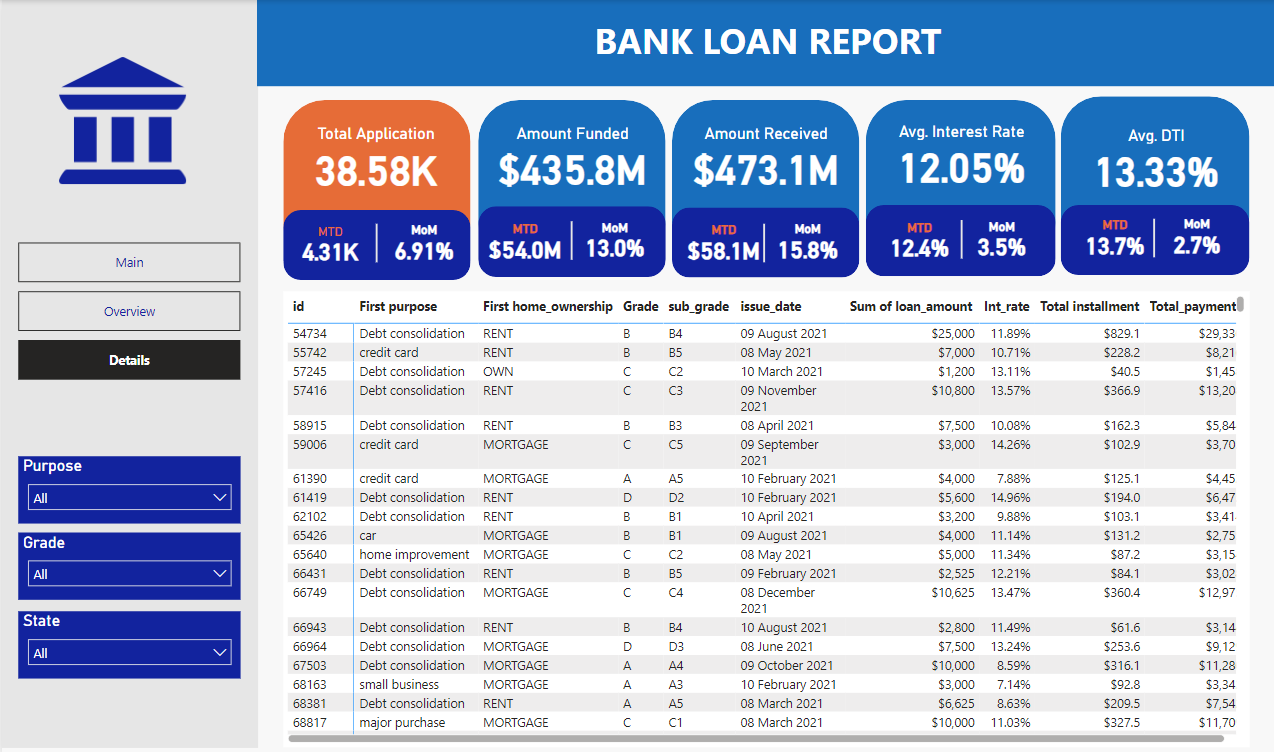

The dashboard page shown, as its layout file describes it:
{"tool":"powerbi","page":{"name":"Details","canvas":[1350,800],"ordinal":2},"visuals":[{"type":"shape","box":[0,0,270.9,791.4],"z":0},{"type":"shape","box":[270.3,0,1079.4,91.3],"z":1000},{"type":"shape","box":[913.4,105.5,201,171.1],"z":1000,"group":"g2"},{"type":"textbox","box":[601.5,12.5,417.2,63.1],"z":2000},{"type":"shape","box":[913.4,216.7,201,75.6],"z":2000,"group":"g2"},{"type":"image","box":[55.6,55.6,144,144],"z":3000},{"type":"shape","box":[1120.2,101.2,199.6,169.7],"z":3000,"group":"g1"},{"type":"shape","box":[708.5,105.5,198.2,172.5],"z":4000,"group":"g3"},{"type":"pageNavigator","box":[16.8,359.3,235.3,42.8],"z":4000},{"type":"shape","box":[1120.2,216.7,199.6,74.1],"z":5000,"group":"g1"},{"type":"pageNavigator","box":[16.8,308,235.3,42.8],"z":5000},{"type":"shape","box":[708.5,219.6,198.2,74.1],"z":6000,"group":"g3"},{"type":"pageNavigator","box":[16.8,256.7,235.3,42.8],"z":6000},{"type":"slicer","title":"Purpose","fields":{"Values":["financial_loan.purpose"]},"box":[17.2,482.6,235.4,71.4],"z":7000},{"type":"slicer","title":"Grade","fields":{"Values":["financial_loan.grade"]},"box":[17.2,563.3,235.4,71.4],"z":8000},{"type":"card","title":"MTD","fields":{"Values":["financial_loan.MTD AMOUNT RECEIVED"]},"box":[718.5,221,88.4,74.1],"z":9000,"group":"g3"},{"type":"slicer","title":"State","fields":{"Values":["financial_loan.address_state"]},"box":[17.2,646.6,235.4,71.4],"z":9000},{"type":"group","id":"g1","title":"Group 3","box":[1120.2,101.2,199.6,189.6],"z":10000},{"type":"shape","box":[503.2,105.5,198.2,172.5],"z":10000,"group":"g4"},{"type":"group","id":"g2","title":"Group 4","box":[913.4,105.5,201,186.8],"z":11000},{"type":"card","title":" Amount Received","fields":{"Values":["Sum(financial_loan.total_payment)"]},"box":[722.8,115.5,169.7,104.1],"z":11000,"group":"g3"},{"type":"group","id":"g3","title":"Group 5","box":[708.5,105.5,198.2,189.6],"z":12000},{"type":"shape","box":[503.2,218.2,198.4,74.9],"z":12000,"group":"g4"},{"type":"group","id":"g4","title":"Group 6","box":[503.2,105.5,198.4,188.1],"z":13000},{"type":"shape","box":[796.3,235.9,20.4,40.8],"z":13000,"group":"g3"},{"type":"group","id":"g5","title":"Group 7","box":[297.9,105.5,198.2,190.1],"z":14000},{"type":"shape","box":[297.9,105.5,198.2,175.4],"z":14000,"group":"g5"},{"type":"card","title":"MoM","fields":{"Values":["financial_loan.MoM Received amount"]},"box":[806.9,219.6,91.3,74.1],"z":15000,"group":"g3"},{"type":"pivotTable","fields":{"Rows":["financial_loan.id"],"Values":["Min(financial_loan.purpose)","Min(financial_loan.home_ownership)","Min(financial_loan.grade)","Min(financial_loan.sub_grade)","Min(financial_loan.issue_date)","Sum(financial_loan.loan_amount)","Sum(financial_loan.int_rate)","Sum(financial_loan.installment)","Sum(financial_loan.total_payment)"]},"box":[297.5,308.1,1022.1,482.6],"z":15000},{"type":"shape","box":[297.9,221.5,198.2,74.1],"z":16000,"group":"g5"},{"type":"card","title":"MTD","fields":{"Values":["financial_loan.MTD INTEREST RATE"]},"box":[925.3,218.1,89.8,74.1],"z":17000,"group":"g2"},{"type":"card","title":"Avg. Interest Rate","fields":{"Values":["Avg(financial_loan.int_rate)"]},"box":[939.5,114.1,149.7,104.1],"z":18000,"group":"g2"},{"type":"shape","box":[1004.6,233,20.4,40.8],"z":19000,"group":"g2"},{"type":"card","title":"MTD","fields":{"Values":["financial_loan.MTD LOAN APPLICATION"]},"box":[301.1,221.5,94.1,74.1],"z":20000,"group":"g5"},{"type":"card","title":"MoM","fields":{"Values":["financial_loan.MoM Interest rate"]},"box":[1014.3,216.7,87,74.1],"z":21000,"group":"g2"},{"type":"card","title":"Total Application","fields":{"Values":["CountNonNull(financial_loan.id)"]},"box":[319.3,115.5,154,105.5],"z":22000,"group":"g5"},{"type":"card","title":"MTD","fields":{"Values":["financial_loan.MTD funded amount"]},"box":[503.6,218.9,99.2,74.8],"z":23000,"group":"g4"},{"type":"card","title":"Amount Funded ","fields":{"Values":["Sum(financial_loan.loan_amount)"]},"box":[514.6,115.5,175.4,104.1],"z":24000,"group":"g4"},{"type":"shape","box":[386.8,236.4,20.4,40.8],"z":26000,"group":"g5"},{"type":"shape","box":[592,233.8,20.4,40.8],"z":27000,"group":"g4"},{"type":"card","title":"MoM","fields":{"Values":["financial_loan.MoM funded amount"]},"box":[605.9,218.1,82.7,74.1],"z":28000,"group":"g4"},{"type":"card","title":"MoM","fields":{"Values":["financial_loan.MoM Application"]},"box":[406.6,220,81.3,74.1],"z":30000,"group":"g5"},{"type":"card","title":"MTD","fields":{"Values":["financial_loan.MTD AVERAGE DTI"]},"box":[1134.1,215.3,85.6,74.1],"z":32000,"group":"g1"},{"type":"card","title":"Avg. DTI","fields":{"Values":["Avg(financial_loan.dti)"]},"box":[1133,116.9,175.4,104.1],"z":34000,"group":"g1"},{"type":"shape","box":[1208.2,230.2,20.4,40.8],"z":36000,"group":"g1"},{"type":"card","title":"MoM","fields":{"Values":["financial_loan.MoM DTI"]},"box":[1219.7,213.8,89.8,74.1],"z":38000,"group":"g1"}]}

Visuals, with their boxes in screenshot pixels (x1, y1, x2, y2), scaled from the page's 1350x800 canvas onto the 1274x752 screenshot:
shape: Rect(0, 0, 256, 744)
shape: Rect(255, 0, 1273, 86)
shape: Rect(862, 99, 1052, 260)
textbox: Rect(568, 12, 961, 71)
shape: Rect(862, 204, 1052, 275)
image: Rect(52, 52, 188, 188)
shape: Rect(1057, 95, 1246, 255)
shape: Rect(669, 99, 856, 261)
pageNavigator: Rect(16, 338, 238, 378)
shape: Rect(1057, 204, 1246, 273)
pageNavigator: Rect(16, 290, 238, 330)
shape: Rect(669, 206, 856, 276)
pageNavigator: Rect(16, 241, 238, 282)
"Purpose" slicer: Rect(16, 454, 238, 521)
"Grade" slicer: Rect(16, 530, 238, 597)
"MTD" card: Rect(678, 208, 761, 277)
"State" slicer: Rect(16, 608, 238, 675)
"Group 3" group: Rect(1057, 95, 1246, 273)
shape: Rect(475, 99, 662, 261)
"Group 4" group: Rect(862, 99, 1052, 275)
" Amount Received" card: Rect(682, 109, 842, 206)
"Group 5" group: Rect(669, 99, 856, 277)
shape: Rect(475, 205, 662, 276)
"Group 6" group: Rect(475, 99, 662, 276)
shape: Rect(751, 222, 771, 260)
"Group 7" group: Rect(281, 99, 468, 278)
shape: Rect(281, 99, 468, 264)
"MoM" card: Rect(761, 206, 848, 276)
pivotTable - financial_loan.id x Min(financial_loan.purpose): Rect(281, 290, 1245, 743)
shape: Rect(281, 208, 468, 278)
"MTD" card: Rect(873, 205, 958, 275)
"Avg. Interest Rate" card: Rect(887, 107, 1028, 205)
shape: Rect(948, 219, 967, 257)
"MTD" card: Rect(284, 208, 373, 278)
"MoM" card: Rect(957, 204, 1039, 273)
"Total Application" card: Rect(301, 109, 447, 208)
"MTD" card: Rect(475, 206, 569, 276)
"Amount Funded " card: Rect(486, 109, 651, 206)
shape: Rect(365, 222, 384, 261)
shape: Rect(559, 220, 578, 258)
"MoM" card: Rect(572, 205, 650, 275)
"MoM" card: Rect(384, 207, 460, 276)
"MTD" card: Rect(1070, 202, 1151, 272)
"Avg. DTI" card: Rect(1069, 110, 1235, 208)
shape: Rect(1140, 216, 1159, 255)
"MoM" card: Rect(1151, 201, 1236, 271)
